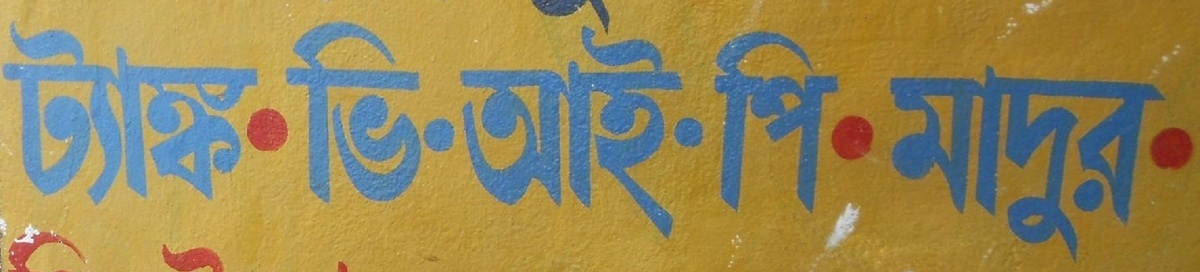text: (465, 27, 480, 240), (481, 27, 496, 240), (497, 27, 512, 240), (513, 27, 528, 240), (529, 27, 544, 240), (545, 27, 560, 240), (561, 27, 576, 240), (577, 27, 592, 240), (593, 27, 608, 240), (609, 27, 624, 240), (625, 27, 640, 240), (641, 27, 656, 240), (657, 27, 672, 240), (673, 27, 688, 240), (897, 56, 912, 266), (913, 56, 928, 266), (929, 56, 944, 266), (945, 56, 960, 266), (961, 56, 976, 266), (977, 56, 992, 266), (993, 56, 1008, 266), (1009, 56, 1024, 266), (1025, 56, 1040, 266), (1041, 56, 1056, 266), (1057, 56, 1072, 266), (1073, 56, 1088, 266), (1089, 56, 1104, 266), (1105, 56, 1120, 266), (1121, 56, 1136, 266), (1137, 56, 1152, 266), (1153, 56, 1168, 266), (689, 27, 703, 240), (721, 30, 736, 217), (737, 30, 752, 217), (753, 30, 768, 217), (769, 30, 784, 217), (785, 30, 800, 217), (801, 30, 816, 217), (817, 30, 832, 217), (289, 20, 304, 205), (305, 20, 320, 205), (321, 20, 336, 205), (337, 20, 352, 205), (353, 20, 368, 205), (369, 20, 384, 205), (385, 20, 400, 205), (401, 20, 416, 205), (417, 20, 432, 205), (433, 20, 448, 205), (17, 23, 32, 206), (33, 23, 48, 206), (49, 23, 64, 206), (65, 23, 80, 206), (81, 23, 96, 206), (97, 23, 112, 206), (113, 23, 128, 206), (129, 23, 144, 206), (145, 23, 160, 206), (161, 23, 176, 206), (177, 23, 192, 206), (193, 23, 208, 206), (209, 23, 224, 206), (225, 23, 240, 206), (241, 23, 256, 206), (2, 23, 16, 206), (833, 30, 846, 217), (892, 56, 896, 266), (449, 20, 453, 205), (1, 223, 16, 272), (17, 223, 32, 272), (33, 223, 48, 272), (49, 223, 64, 272), (65, 223, 80, 272), (81, 223, 96, 272), (97, 223, 112, 272), (113, 223, 128, 272), (129, 223, 144, 272), (145, 223, 160, 272), (161, 223, 176, 272), (177, 223, 192, 272), (193, 223, 208, 272), (209, 223, 224, 272), (225, 223, 240, 272), (241, 223, 256, 272), (257, 223, 272, 272), (273, 223, 288, 272), (289, 223, 304, 272), (305, 223, 320, 272), (321, 223, 336, 272), (337, 223, 352, 272), (353, 223, 368, 272), (529, 2, 544, 36), (545, 2, 560, 36), (561, 2, 576, 36), (577, 2, 592, 36), (593, 2, 608, 36), (609, 2, 624, 36), (462, 27, 464, 240), (369, 223, 377, 272), (257, 23, 259, 206), (1169, 56, 1170, 266), (625, 2, 626, 36)
